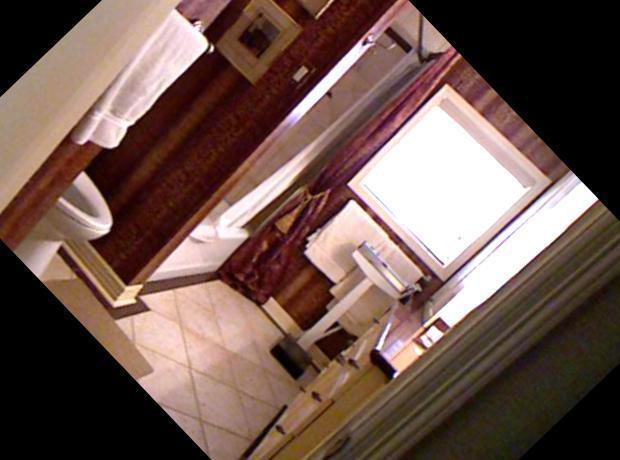Ducha: (47, 0, 454, 331)
Otro Obstaculo: (257, 234, 417, 392)
Sanitario: (0, 69, 174, 292)
